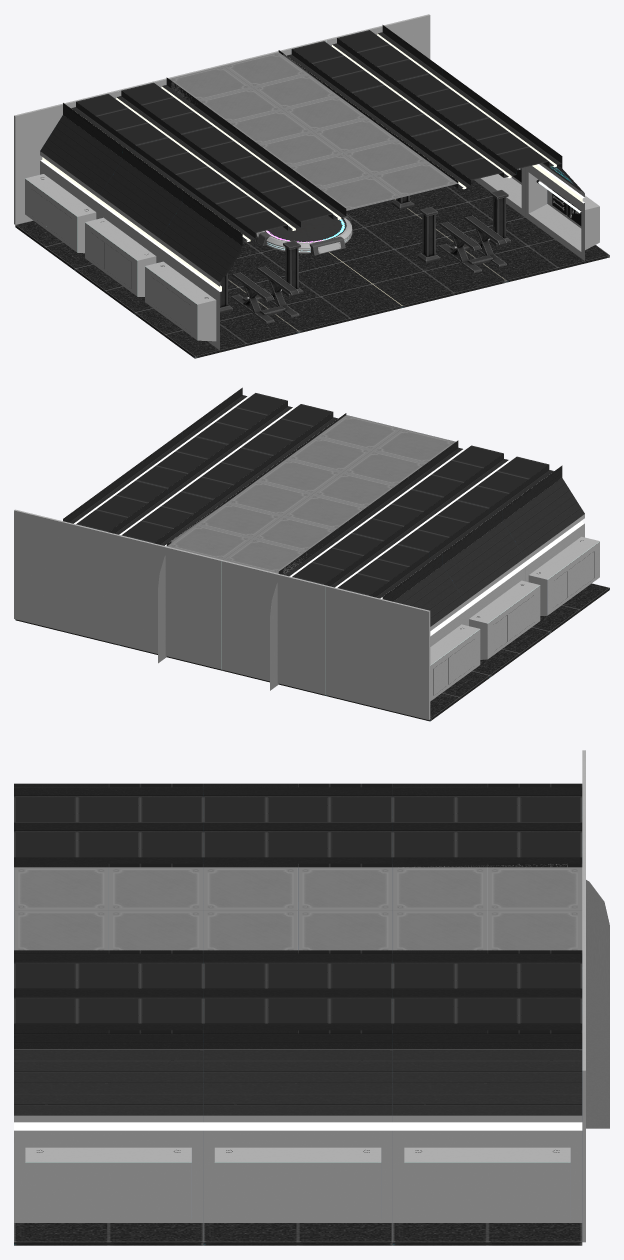
Rendered from Lobby.gltf.
3 renders of one model, top to bottom at view 1: azimuth 30°, elevation 25°; view 2: azimuth 150°, elevation 25°; view 3: azimuth 270°, elevation 25°, orthographic. The views are drawn at different scales.
Parts seen in each view (by area): view 1: Lobby; view 2: Lobby; view 3: Lobby.
Part boxes in pixels (x1,y1,x2,y2): Lobby: (14,14,609,358); Lobby: (14,387,609,721); Lobby: (14,750,609,1245).
Bounding box in the file's own units: 20 × 5.2 × 15.73.
2 materials, 2 textured.
